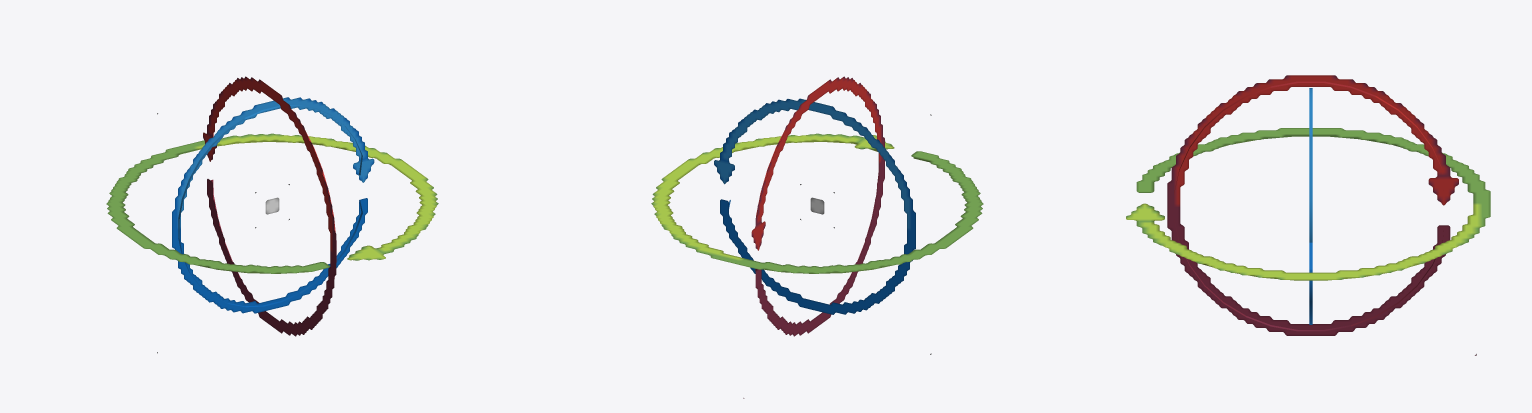
File: Manipulator_Rotate.fbx
3 views of the same model, side by side, from view 1: azimuth 30°, elevation 25°; view 2: azimuth 150°, elevation 25°; view 3: azimuth 270°, elevation 25° (orthographic). The views are drawn at different scales.
Visible parts, largest first — view 1: yaw, roll, pitch; view 2: yaw, roll, pitch; view 3: pitch, yaw, roll.
Part boxes in pixels (left/top/right/bottom): yaw: left=106, top=133, right=438, bottom=273; roll: left=157, top=97, right=374, bottom=353; pitch: left=203, top=76, right=336, bottom=336; yaw: left=651, top=133, right=983, bottom=273; roll: left=714, top=98, right=931, bottom=354; pitch: left=743, top=76, right=884, bottom=398; pitch: left=1167, top=75, right=1476, bottom=355; yaw: left=1126, top=128, right=1490, bottom=280; roll: left=1309, top=88, right=1312, bottom=324.
Bounding box in the file's own units: 19 × 15.2 × 19.
